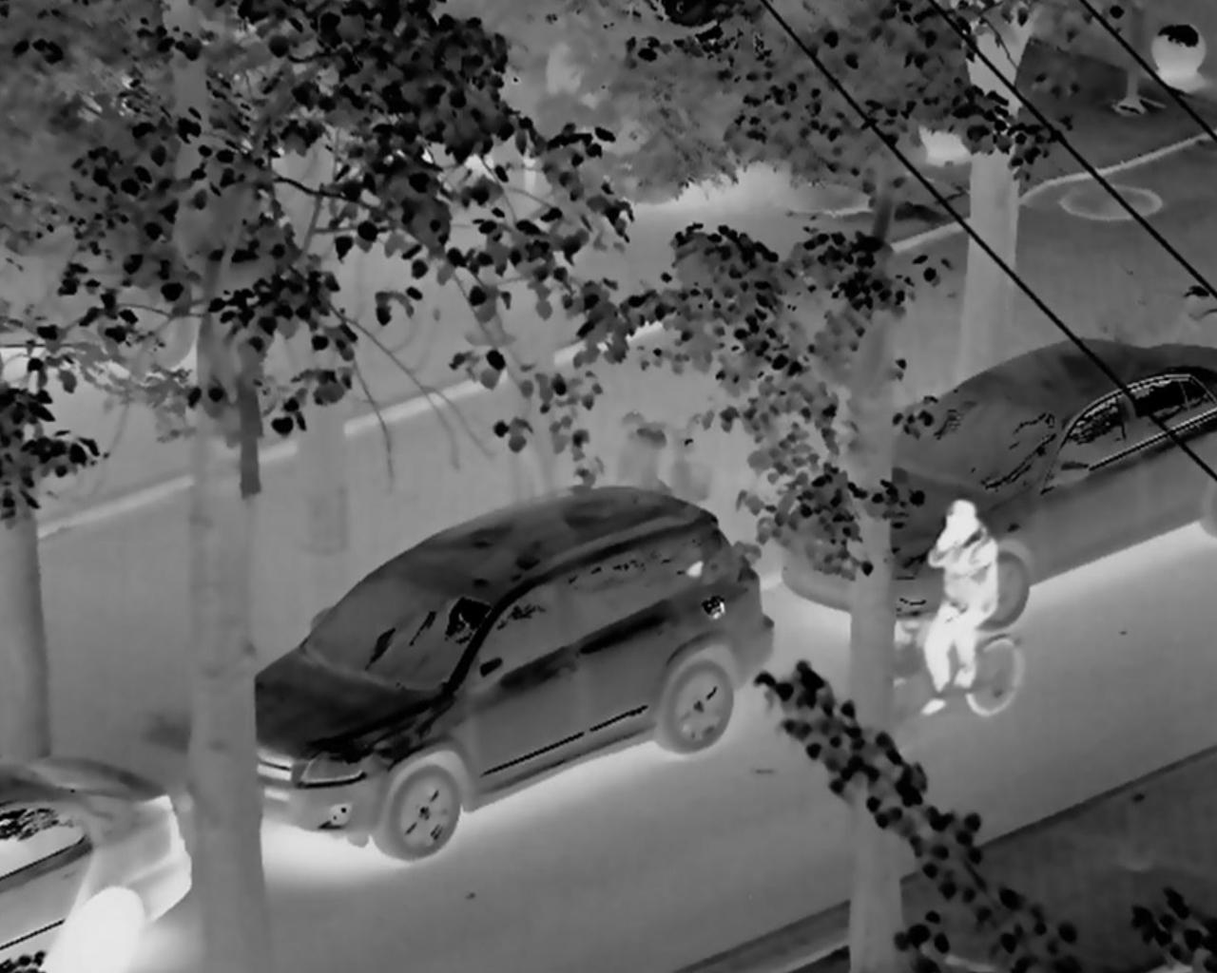person: (879, 464, 1039, 751)
